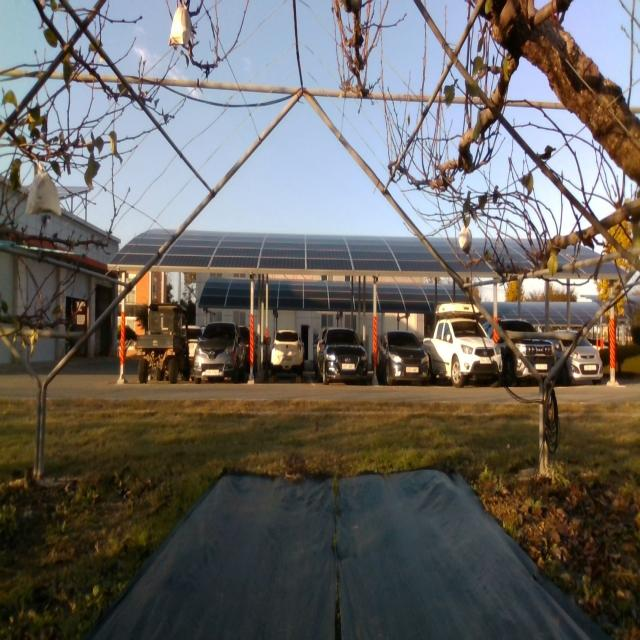pearbags: (24, 173, 62, 216), (168, 4, 192, 46), (458, 225, 472, 254)
